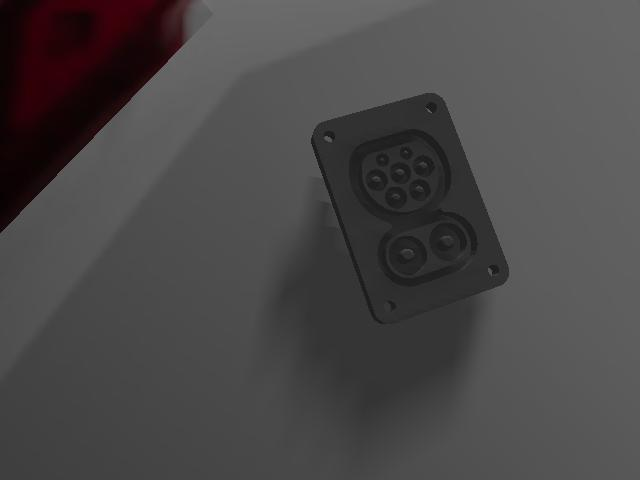EV-socket: (311, 93, 508, 321)
